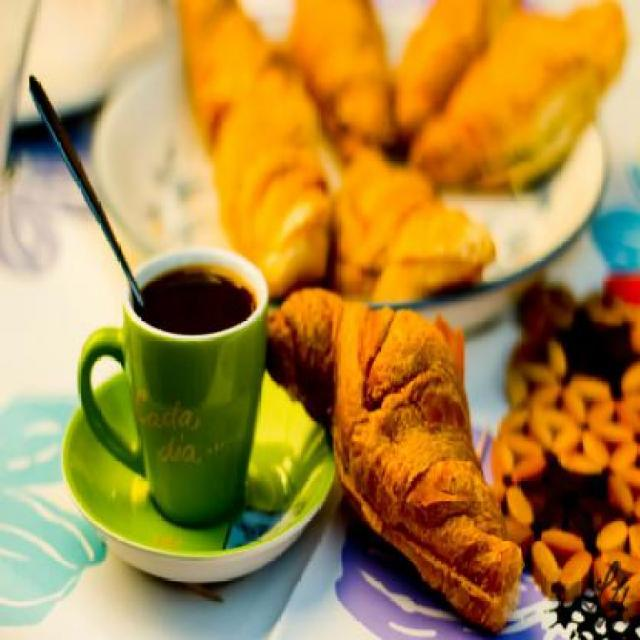Croissant: (278, 300, 516, 602), (181, 0, 330, 295), (417, 0, 628, 191), (328, 150, 494, 296), (392, 0, 504, 135), (288, 0, 392, 142)
